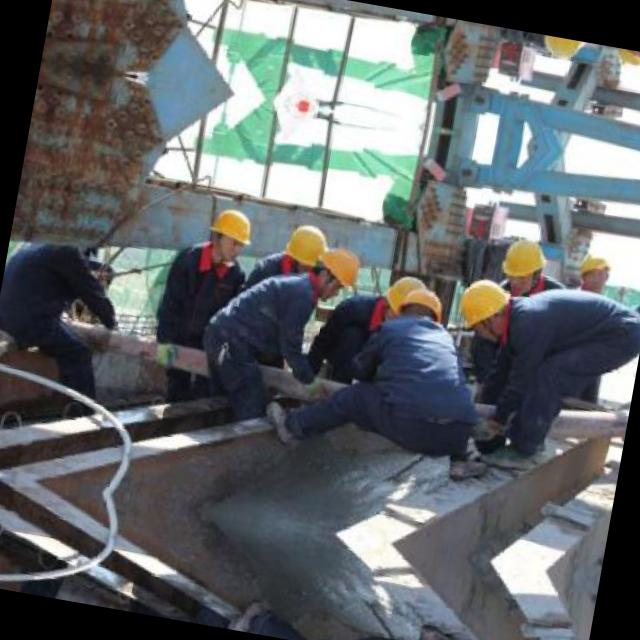helmet: (450, 270, 520, 342), (495, 227, 554, 294), (277, 215, 332, 285), (200, 200, 258, 264), (307, 239, 363, 300), (392, 282, 443, 328), (572, 243, 618, 294), (380, 268, 428, 314), (534, 34, 590, 68), (609, 46, 640, 76)
